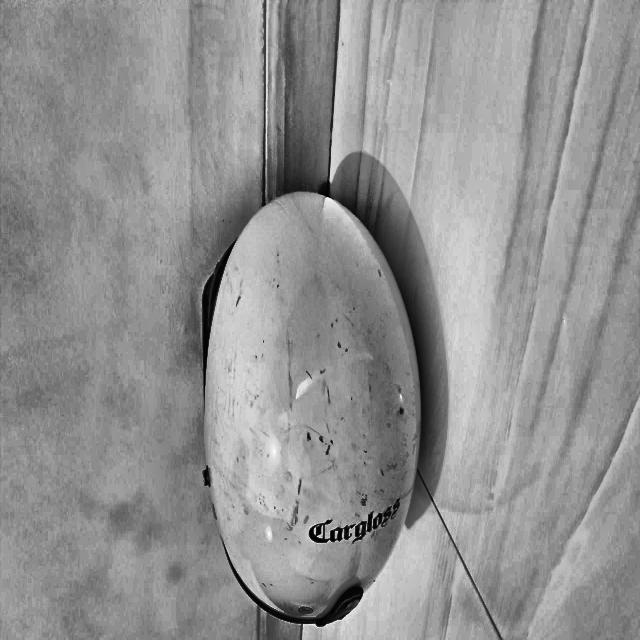Helmet: (5, 319, 262, 640)
